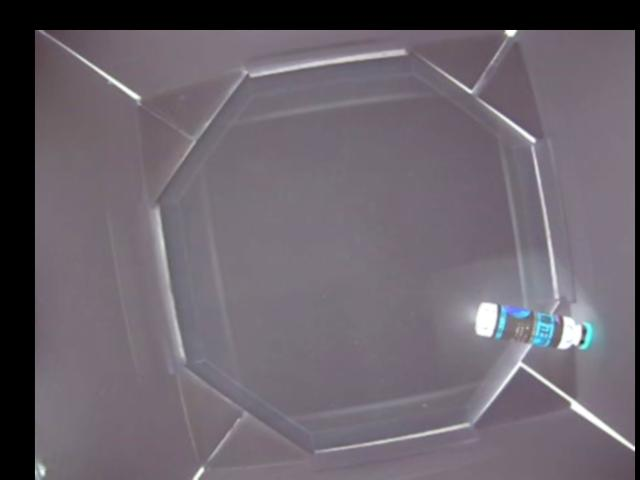Medicine: (476, 299, 593, 352)
